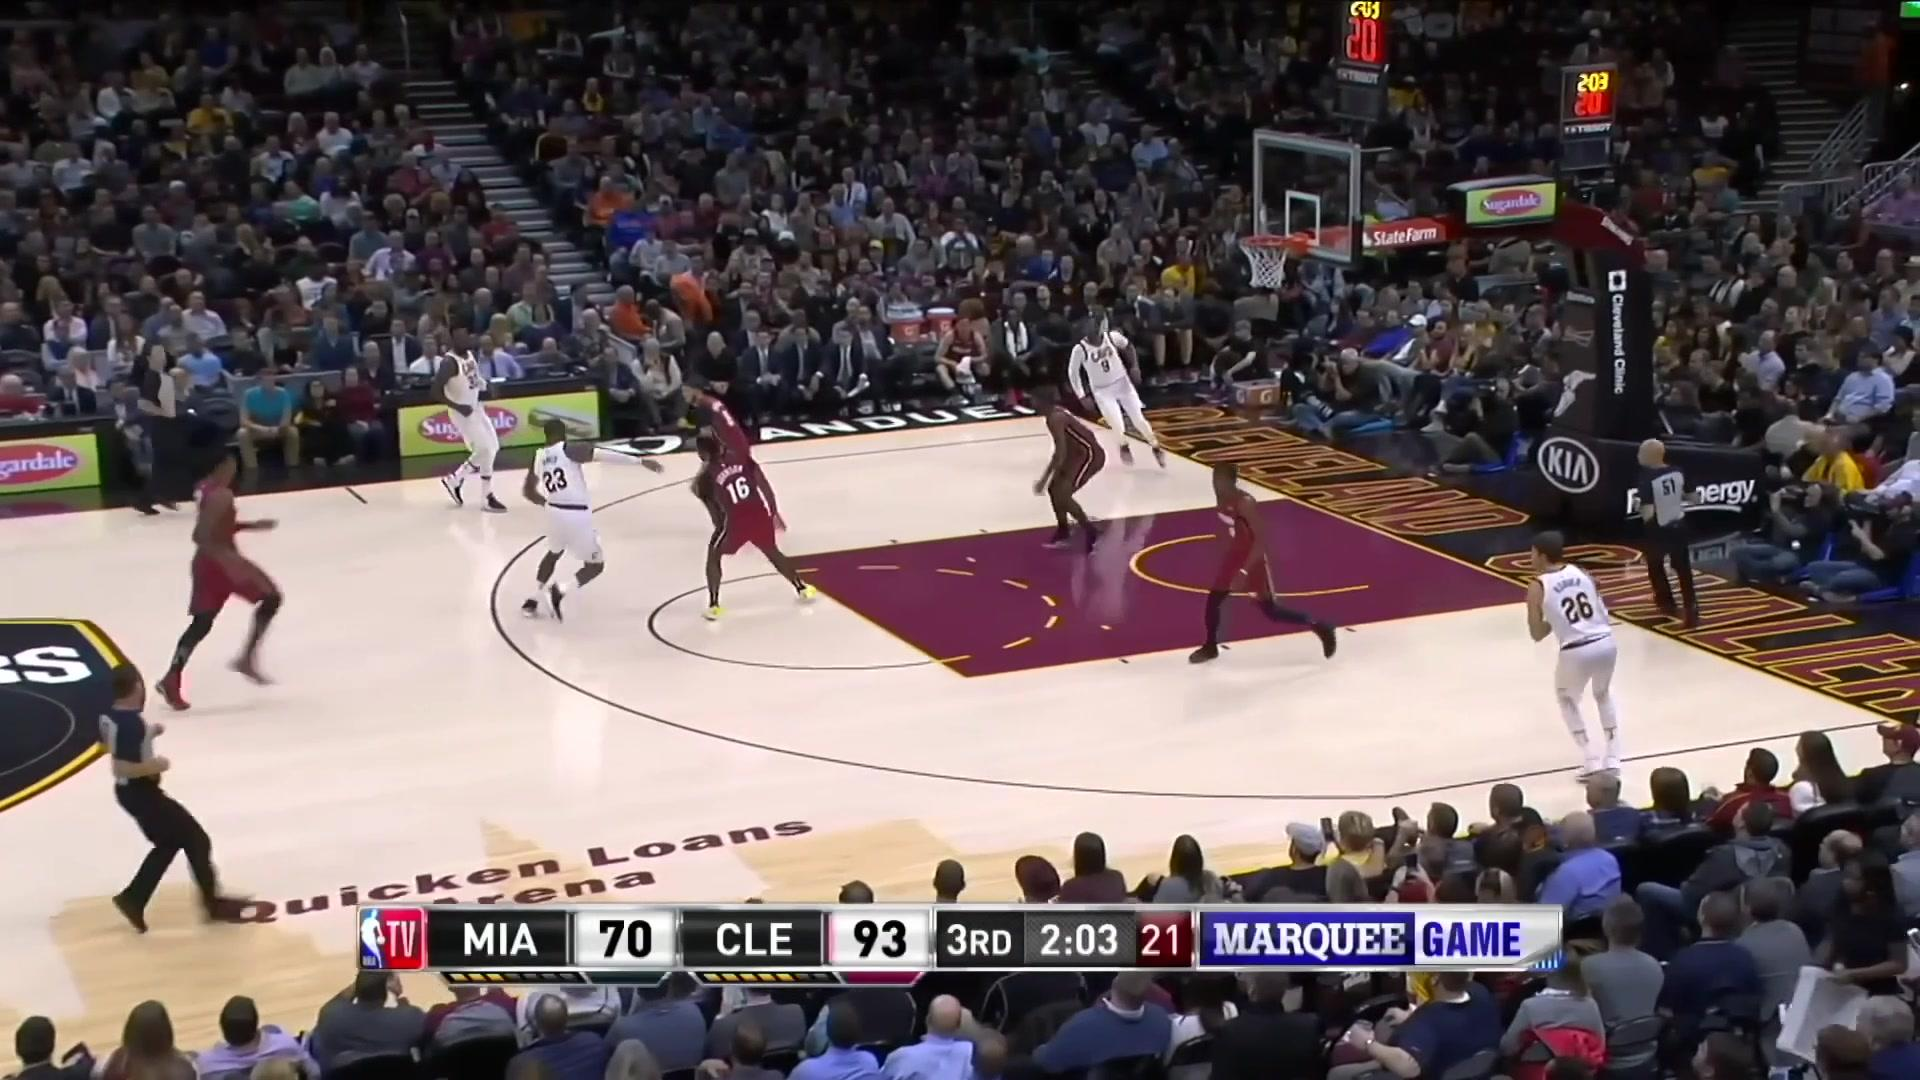no_foul: (513, 415, 823, 665)
